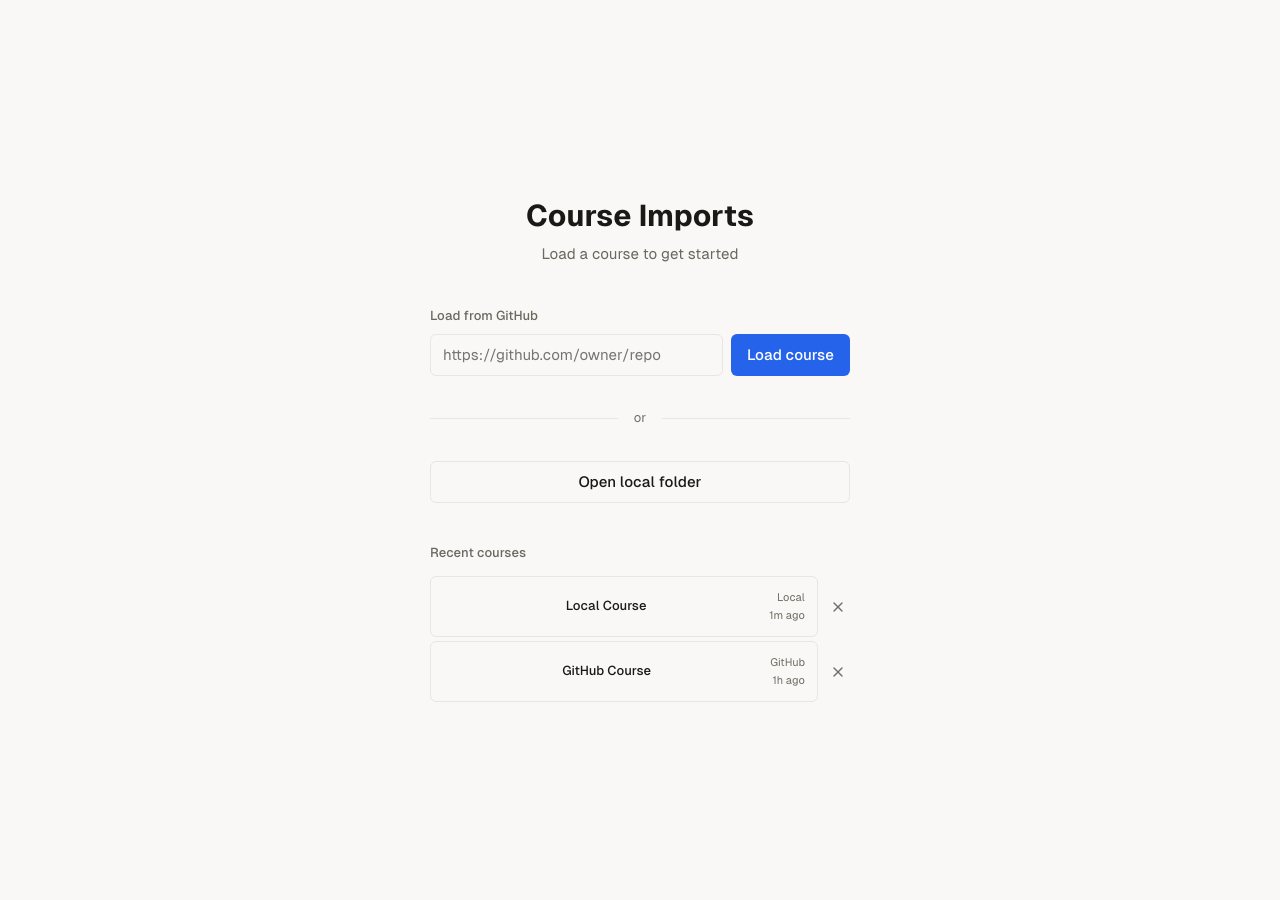
Home › Recent courses › dismisses confirmation dialog when Cancel is clicked
Check: the text "Local Course" is shown, box [566, 598, 646, 613]
Click the button named "Remove Local Course".
click(838, 607)  # box [826, 595, 850, 619]
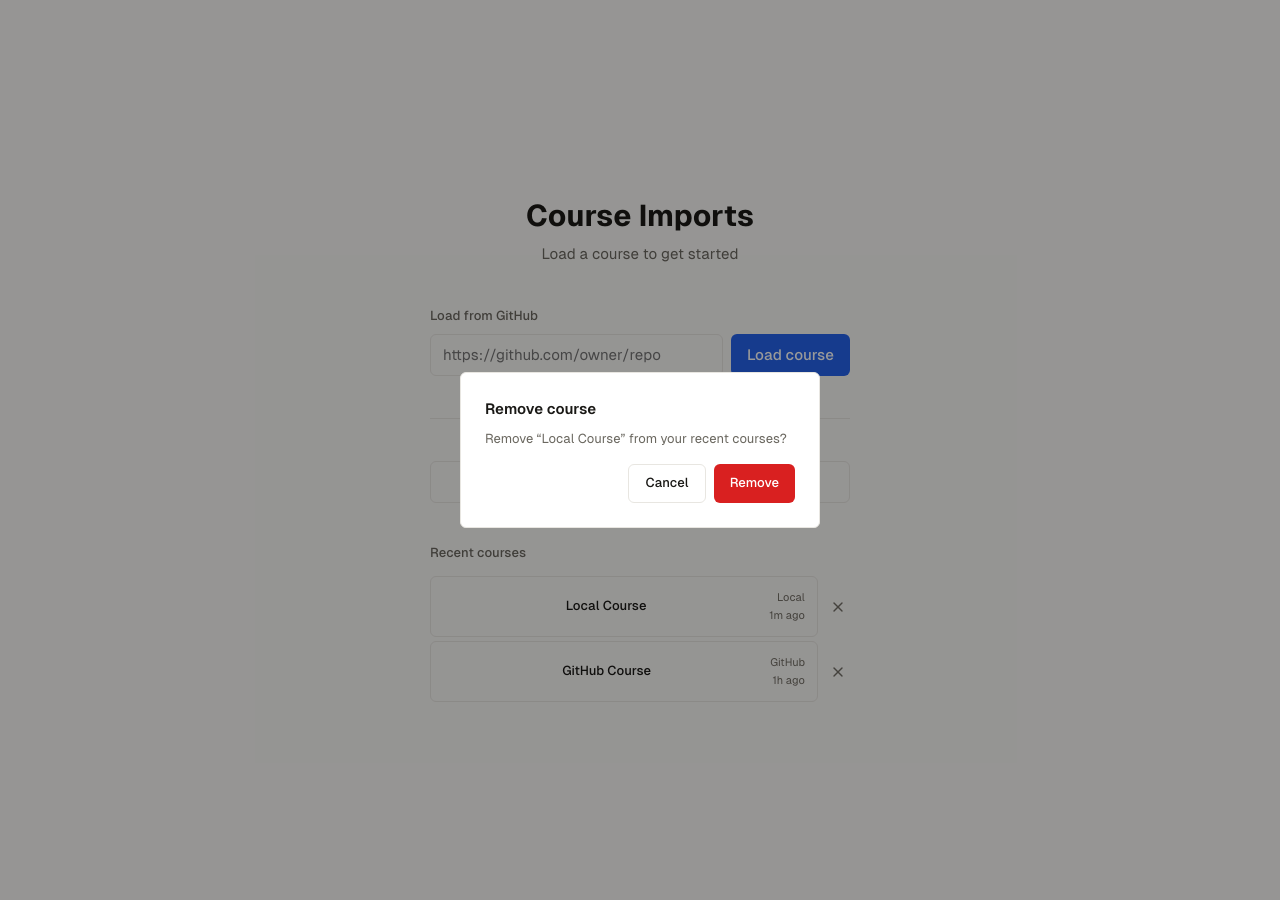
Check: the dialog named "Confirm removal" is shown
Click the button "Cancel".
click(667, 484)  # box [628, 464, 706, 503]
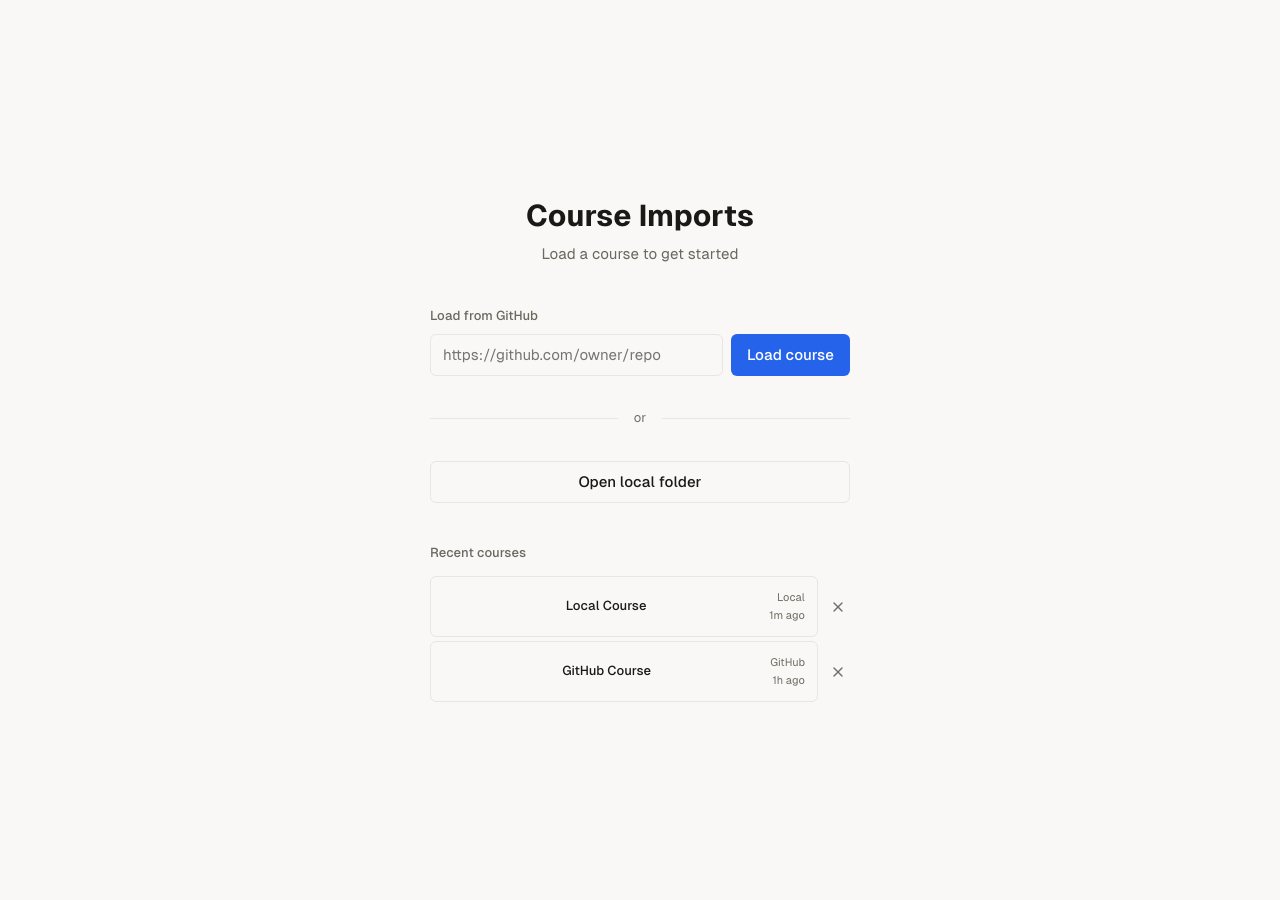
Check: the text "Local Course" is shown, box [566, 598, 646, 613]
Check: the dialog is gone
